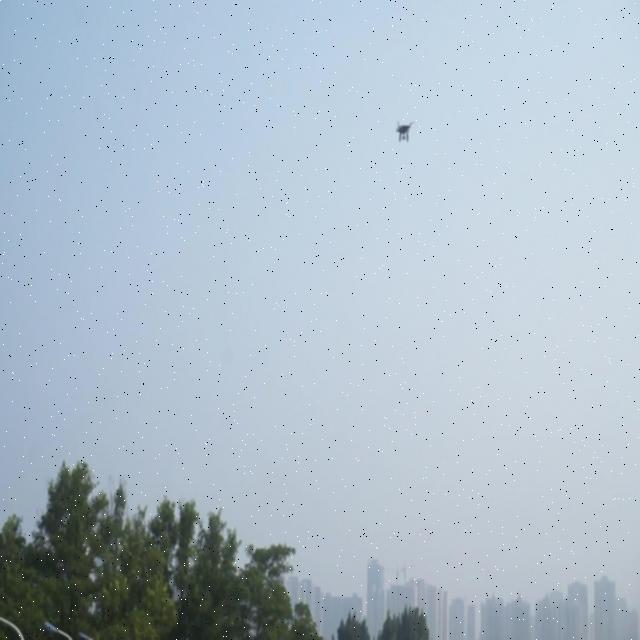UAV: (396, 122, 415, 142)
